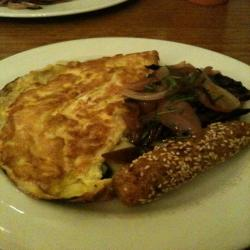bread: (121, 119, 248, 215)
omelette: (4, 50, 164, 208)
